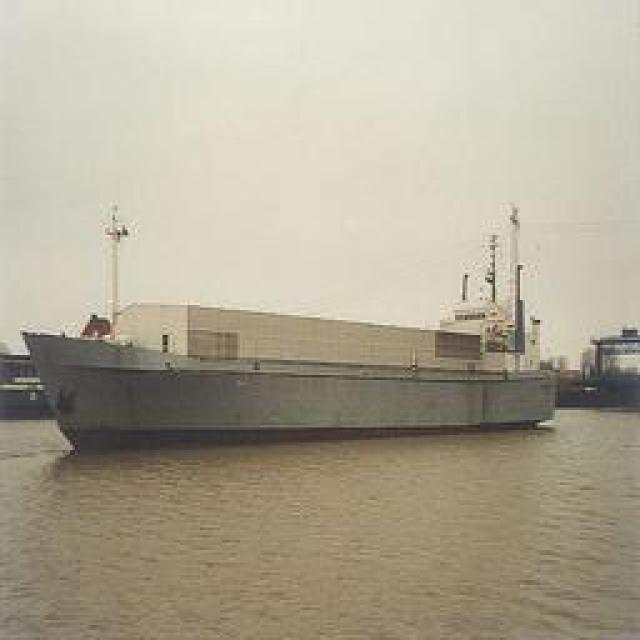Ship: (25, 321, 555, 449)
